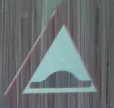Speed Breaker ahead: (5, 7, 104, 99)
